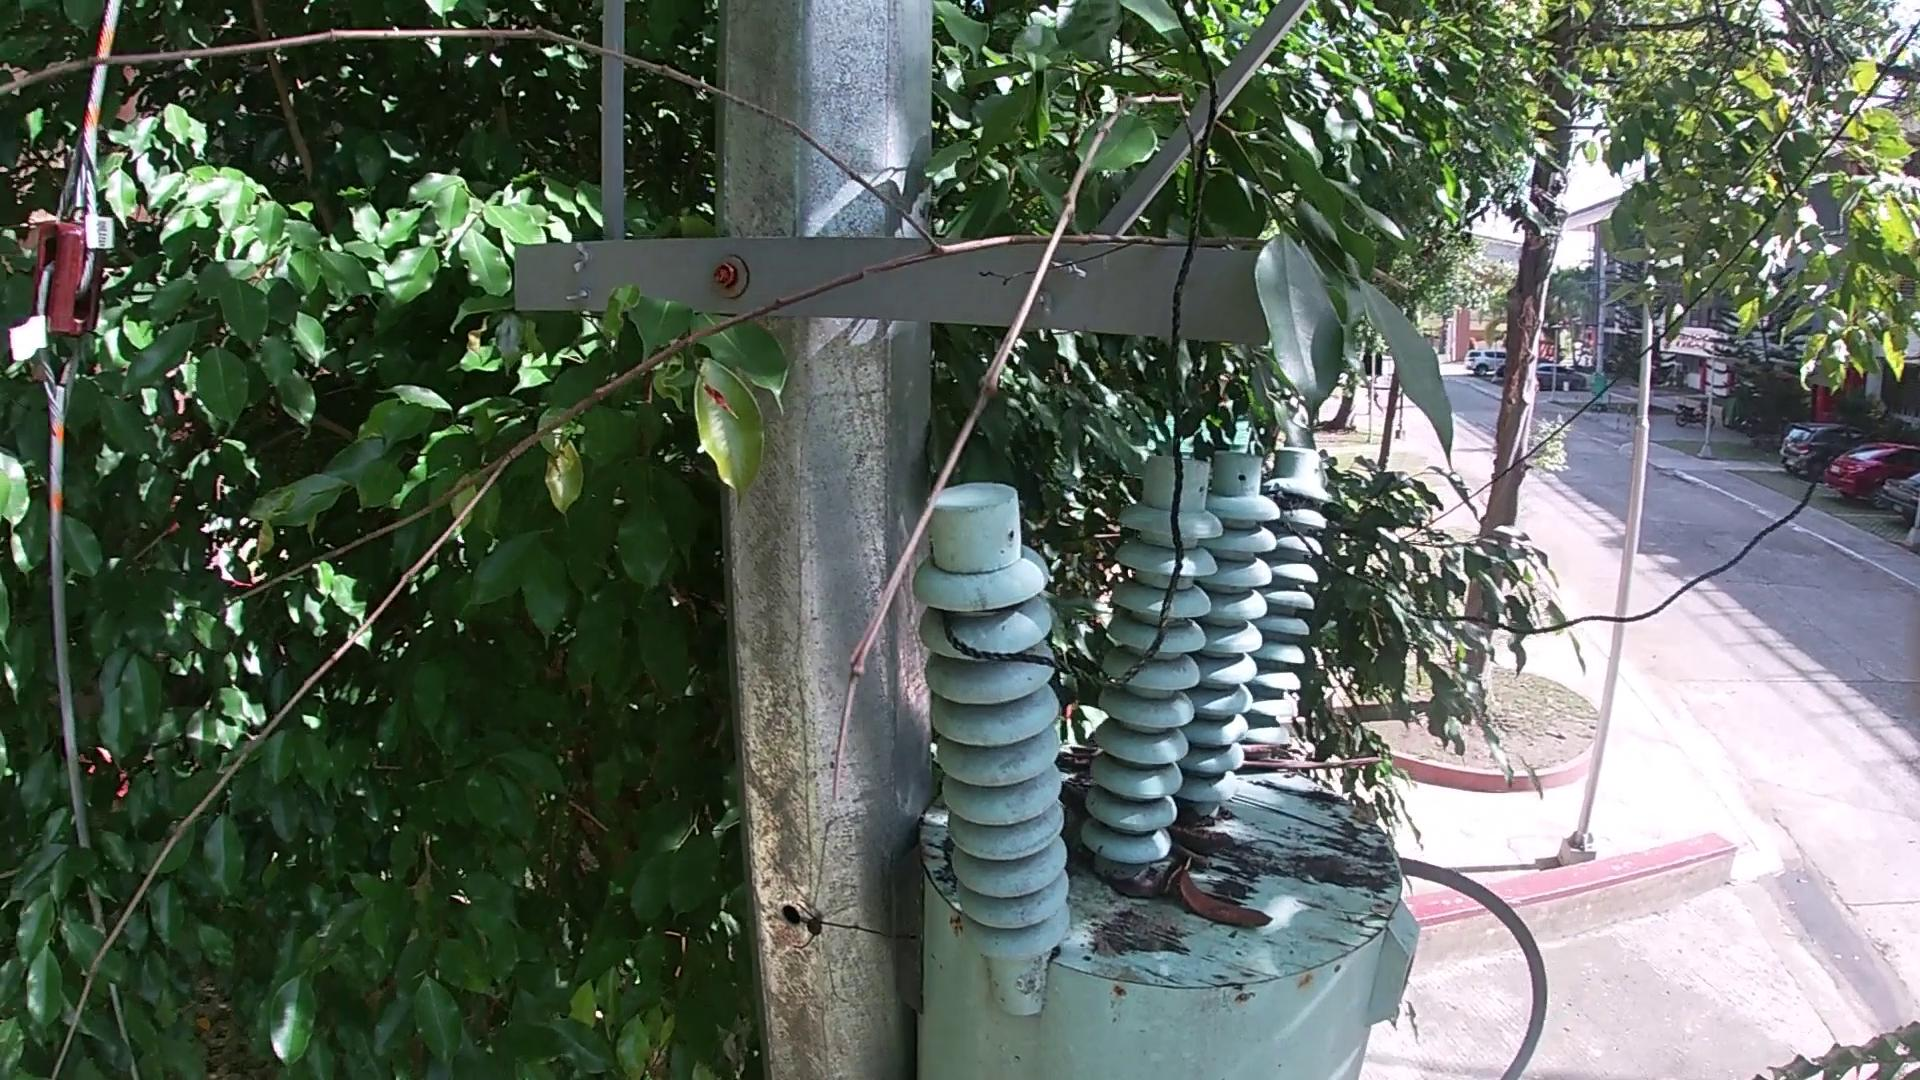leaf: (1116, 880, 1178, 905)
mahogany fruit: (1188, 874, 1275, 928), (1179, 816, 1230, 864)
tree branch: (26, 22, 1408, 1067), (1240, 794, 1374, 861), (1242, 749, 1381, 767), (1052, 745, 1098, 770), (1063, 785, 1083, 806)
